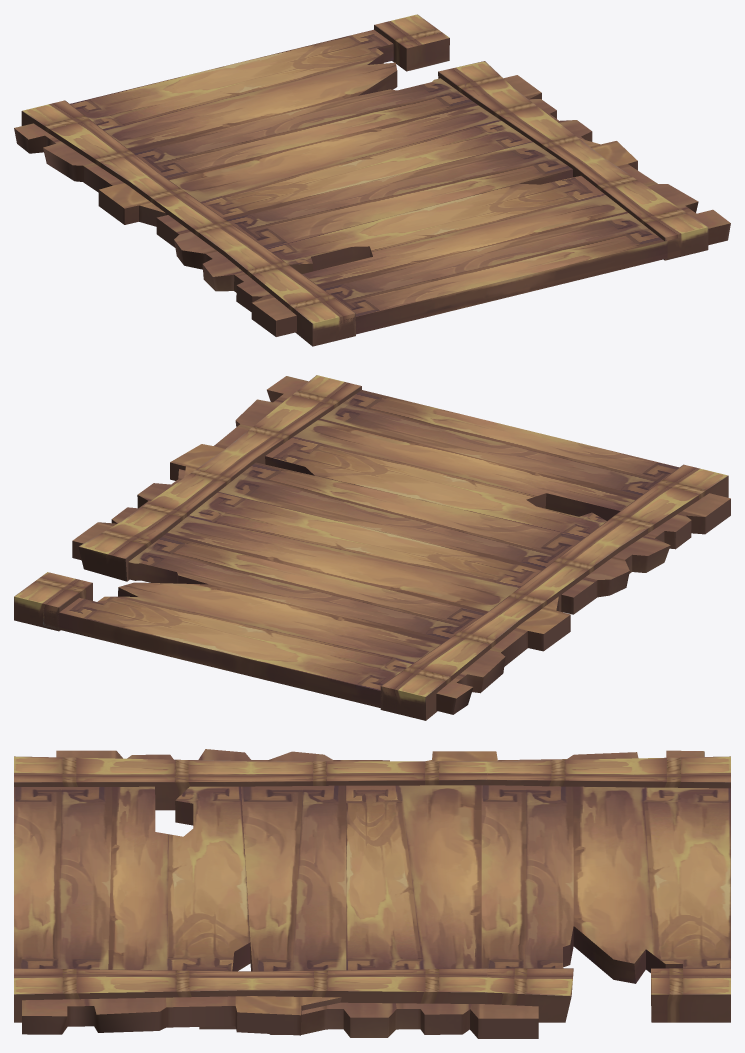
The model's file is road2.FBX.
3 views of the same model, one above another, from view 1: azimuth 30°, elevation 25°; view 2: azimuth 150°, elevation 25°; view 3: azimuth 270°, elevation 25° (orthographic). The views are drawn at different scales.
Parts seen in each view (by area): view 1: gb_qiao_02; view 2: gb_qiao_02; view 3: gb_qiao_02.
Part boxes in pixels (bbox=[...]): gb_qiao_02: bbox=[14, 14, 730, 346]; gb_qiao_02: bbox=[14, 375, 730, 720]; gb_qiao_02: bbox=[14, 749, 730, 1038].
Bounding box in the file's own units: 569 × 31.01 × 645.
Materials: 1 (1 with a texture image).
